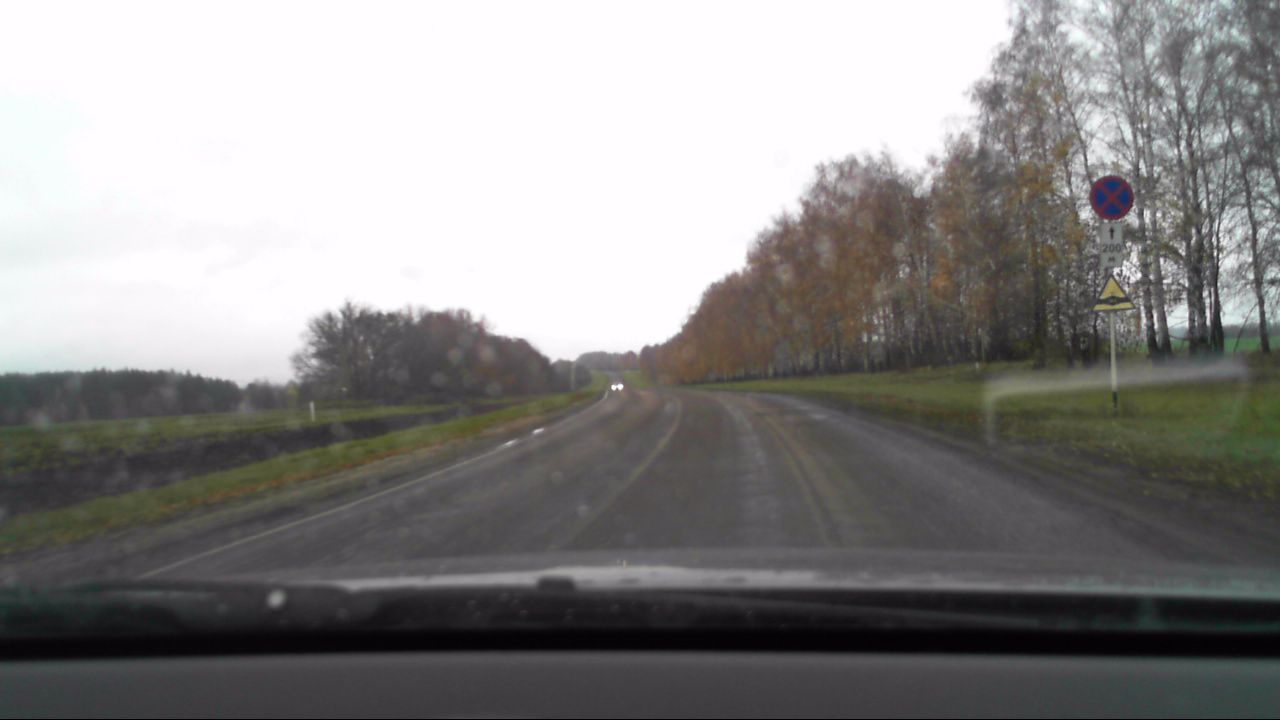No Parking: (1088, 173, 1133, 222)
